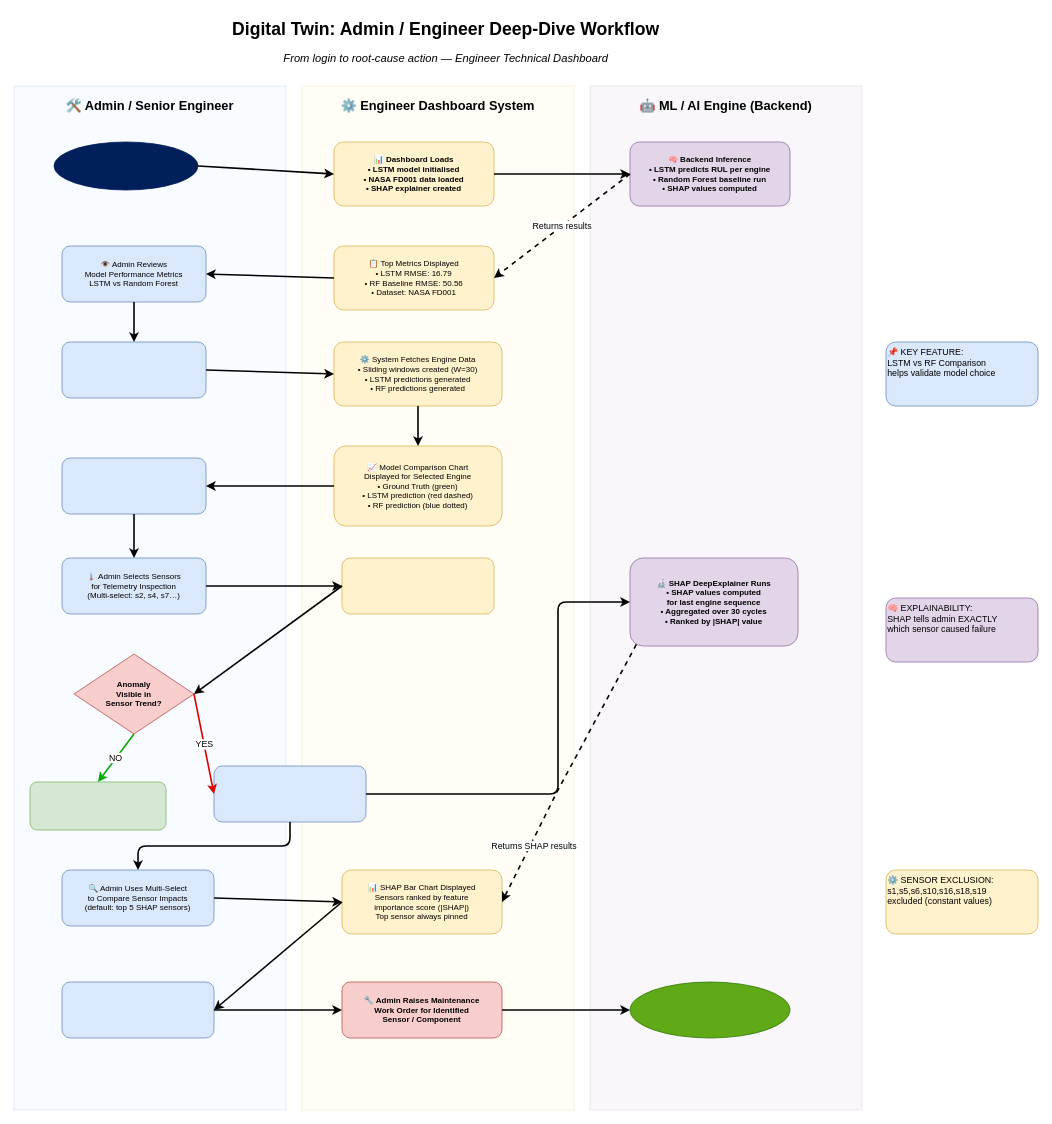
Some shapes in this 1052 by 1124 pixel diagram are drawn without their labels. The shapes that lost their labels are listed below. From the top down, each one's centre as x and y in pixels, then its label:
At (125,165): "🔐 Admin Navigates to Engineer Dashboard URL".
At (133,369): "🎛️ Selects Engine ID from Sidebar Control Panel (Dropdown: engine 1–100)".
At (133,485): "📊 Admin Analyses Prediction vs Ground Truth Confirms LSTM accuracy".
At (417,585): "📉 Sensor Time-Series Line Charts Rendered (cycle vs normalised value)".
At (97,805): "✅ Sensor Trends Normal Continue monitoring".
At (289,793): "🧠 Admin Proceeds to Root Cause Analysis (SHAP) Section".
At (137,1009): "🎯 Admin Identifies Root Cause Sensor e.g. s7 (Pressure) = #1 Risk".
At (709,1009): "✅ MISSION COMPLETE Root Cause Identified & Action Raised".
